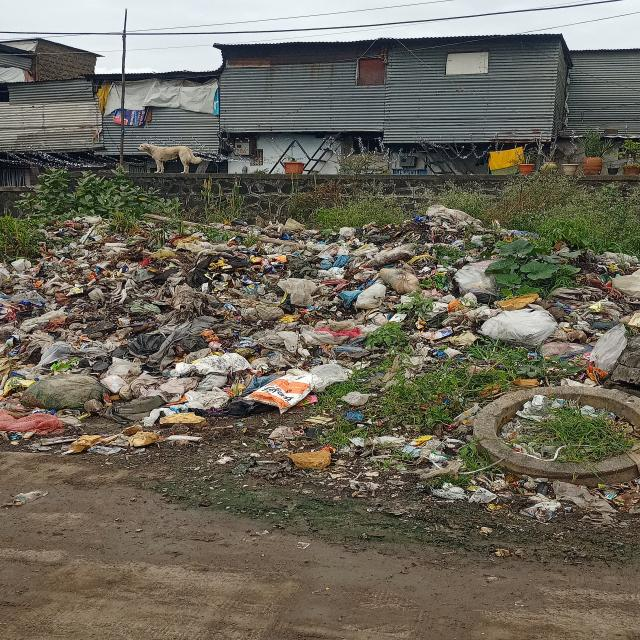garbage: (6, 218, 330, 457), (341, 220, 640, 378)
